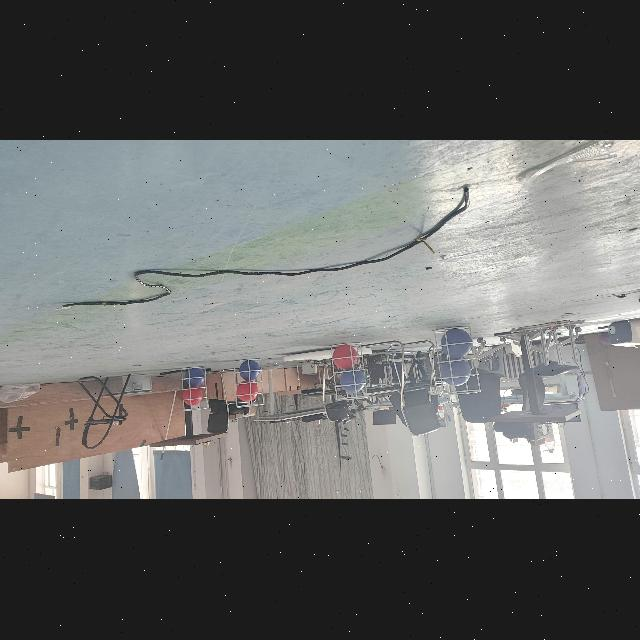B: (441, 328, 472, 360), (440, 359, 470, 387), (340, 370, 366, 394), (239, 361, 261, 382), (186, 369, 204, 387)
R: (332, 346, 358, 370), (236, 382, 258, 402), (182, 388, 202, 406)
S: (430, 324, 486, 398), (327, 341, 371, 403), (232, 358, 266, 410), (178, 364, 212, 414)
